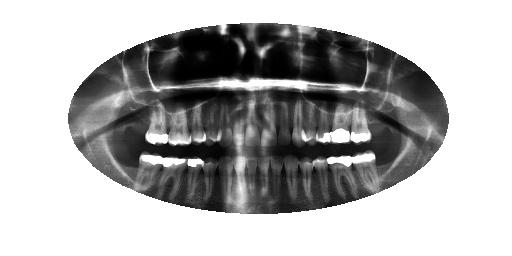Fillings: (329, 151, 353, 195), (354, 151, 380, 189), (139, 153, 162, 192), (146, 105, 167, 146), (164, 155, 183, 194), (352, 107, 371, 145), (330, 107, 349, 144), (187, 154, 202, 200)
